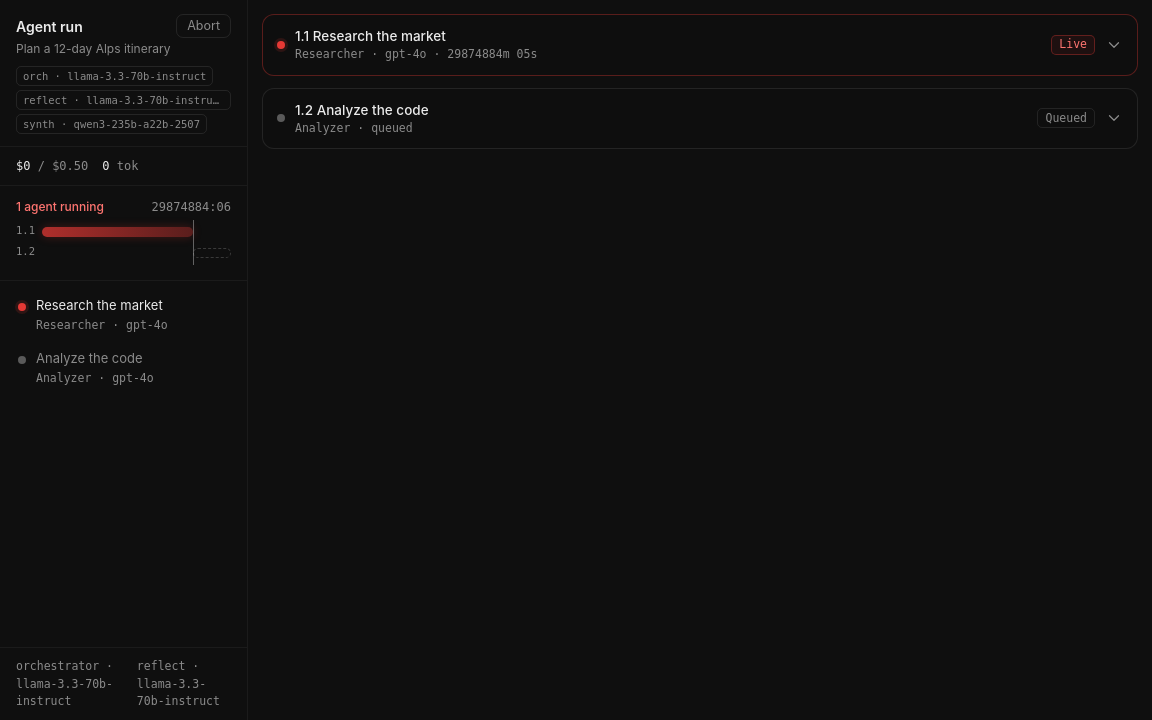
Test: Reasoning view and card fixes (Part E) › a live card with no content shows plain "Working…" (no timeline marker) and the same chevron as other cards
Click the button named "Expand trace" next to "Live" at (1114, 45), box [1105,36,1123,54]
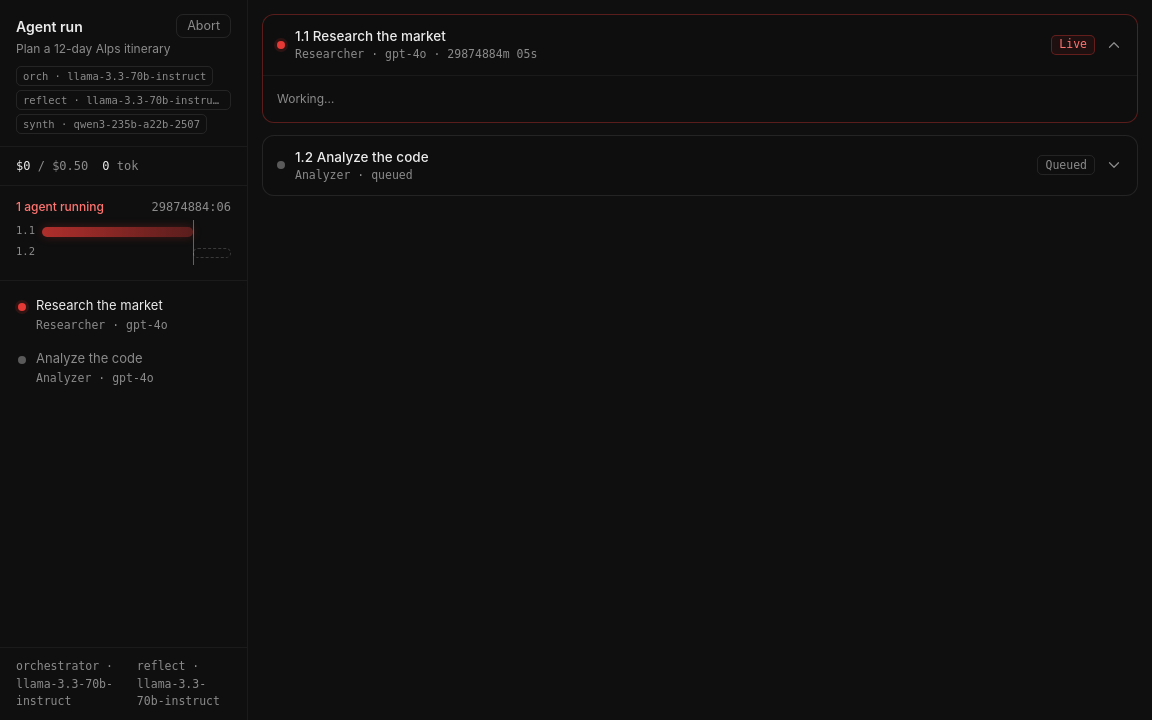
Now the text with test id "agent-empty-1.1" reads "Working…", box [277,90,334,106]
